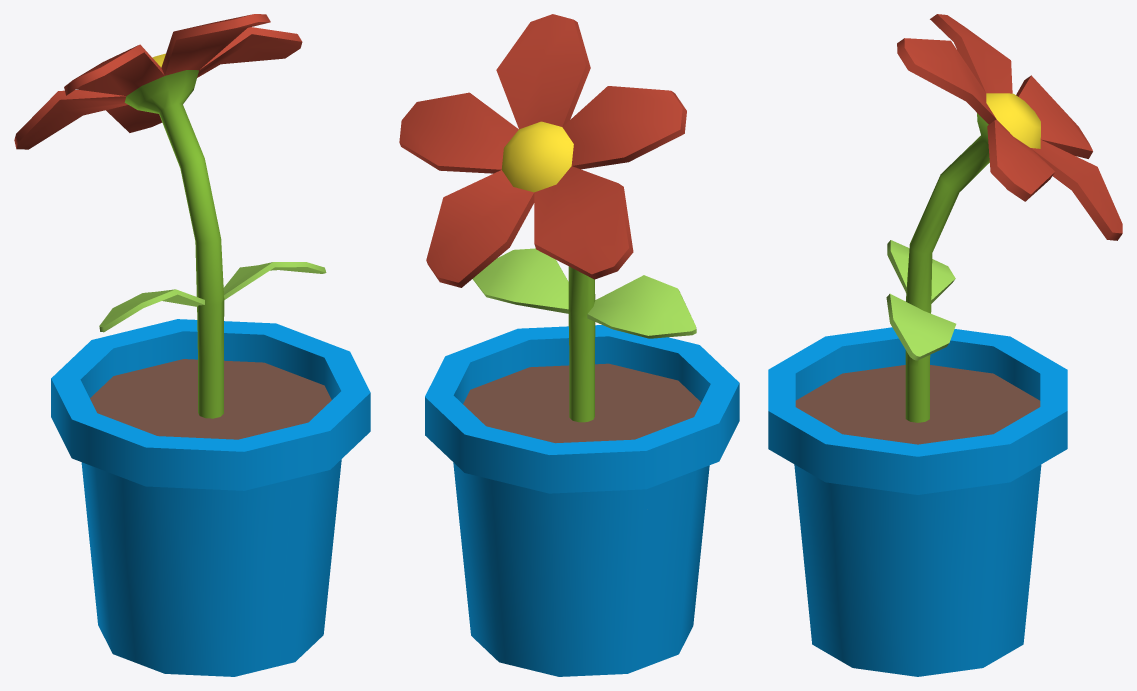
Rendered from flower_low_rootss22.fbx.
3 views of the same model, side by side, from view 1: azimuth 30°, elevation 25°; view 2: azimuth 150°, elevation 25°; view 3: azimuth 270°, elevation 25° (orthographic). The views are drawn at different scales.
Parts seen in each view (by area): view 1: flower_low_sh_5, flower_low_sh_4, flower_low_sh_8, flower_low_sh_7, flower_low_sh_6, flower_low_sh_16, flower_low_sh_15, flower_low_sh_2, flower_low_sh_12, flower_low_sh_21, flower_low_sh_10, flower_low_sh_18 (+3 smaller); view 2: flower_low_sh_4, flower_low_sh_2, flower_low_sh_5, flower_low_sh_6, flower_low_sh_3, flower_low_sh_16, flower_low_sh_7, flower_low_sh_15, flower_low_sh_12, flower_low_sh_21, flower_low_sh_18, flower_low_sh_1 (+4 smaller); view 3: flower_low_sh_4, flower_low_sh_8, flower_low_sh_3, flower_low_sh_7, flower_low_sh_5, flower_low_sh_6, flower_low_sh_15, flower_low_sh_16, flower_low_sh_18, flower_low_sh_12, flower_low_sh_10, flower_low_sh_1 (+3 smaller).
Part boxes in pixels (left/top/right/bottom): flower_low_sh_5: left=58, top=391, right=318, bottom=611; flower_low_sh_4: left=102, top=319, right=353, bottom=416; flower_low_sh_8: left=130, top=503, right=337, bottom=676; flower_low_sh_7: left=233, top=358, right=370, bottom=539; flower_low_sh_6: left=86, top=27, right=250, bottom=174; flower_low_sh_16: left=99, top=231, right=310, bottom=404; flower_low_sh_15: left=51, top=337, right=175, bottom=430; flower_low_sh_2: left=81, top=462, right=136, bottom=662; flower_low_sh_12: left=65, top=44, right=159, bottom=94; flower_low_sh_21: left=14, top=90, right=93, bottom=149; flower_low_sh_10: left=181, top=155, right=221, bottom=251; flower_low_sh_18: left=206, top=27, right=302, bottom=72; flower_low_sh_4: left=425, top=351, right=635, bottom=532; flower_low_sh_2: left=547, top=503, right=692, bottom=676; flower_low_sh_5: left=591, top=333, right=739, bottom=565; flower_low_sh_6: left=442, top=57, right=589, bottom=277; flower_low_sh_3: left=456, top=493, right=595, bottom=673; flower_low_sh_16: left=476, top=262, right=696, bottom=411; flower_low_sh_7: left=458, top=325, right=628, bottom=404; flower_low_sh_15: left=540, top=426, right=687, bottom=503; flower_low_sh_12: left=570, top=86, right=686, bottom=167; flower_low_sh_21: left=534, top=176, right=633, bottom=279; flower_low_sh_18: left=399, top=92, right=489, bottom=172; flower_low_sh_1: left=504, top=14, right=585, bottom=58; flower_low_sh_4: left=884, top=374, right=1067, bottom=535; flower_low_sh_8: left=801, top=534, right=991, bottom=676; flower_low_sh_3: left=861, top=503, right=1037, bottom=662; flower_low_sh_7: left=768, top=400, right=902, bottom=542; flower_low_sh_5: left=768, top=327, right=964, bottom=538; flower_low_sh_6: left=938, top=63, right=1119, bottom=224; flower_low_sh_15: left=933, top=329, right=1067, bottom=404; flower_low_sh_16: left=887, top=240, right=956, bottom=401; flower_low_sh_18: left=987, top=120, right=1054, bottom=201; flower_low_sh_12: left=930, top=14, right=1012, bottom=93; flower_low_sh_10: left=909, top=179, right=964, bottom=262; flower_low_sh_1: left=897, top=38, right=959, bottom=94.
Bounding box in the file's own units: 283 × 595 × 319.
Materials: 2 (1 with a texture image).
